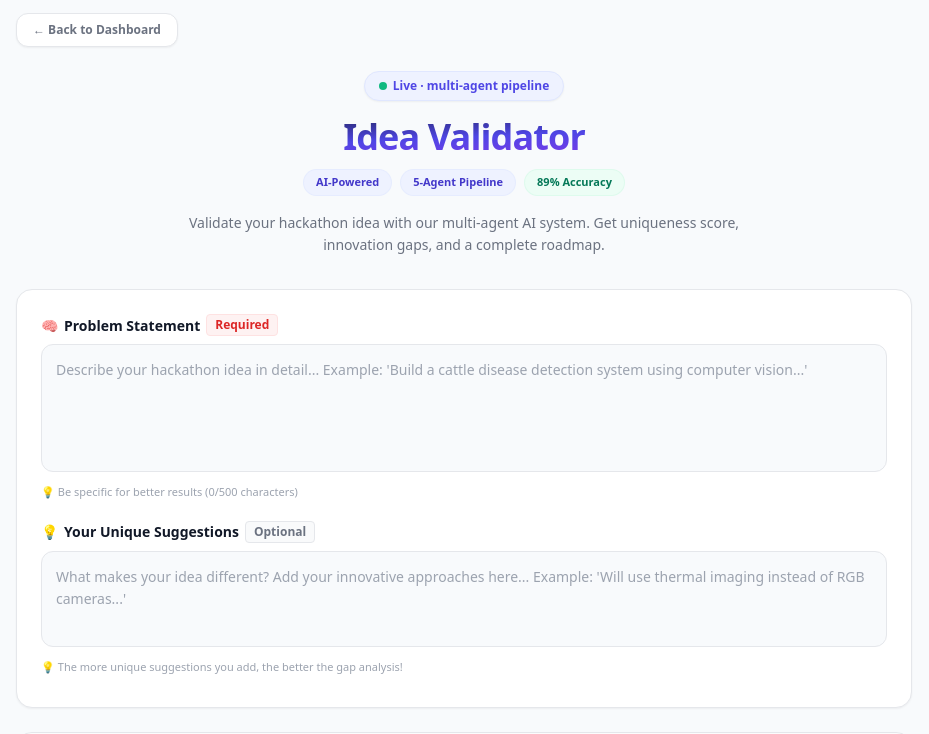
it: IdeaValidator Component Tests › shows agent progress tracker during validation
Type "Test problem statement" into the text box with placeholder "Describe your hackathon idea".
click(464, 408); type("Test problem statement")  # box [41,344,887,472]
(page scrolled)
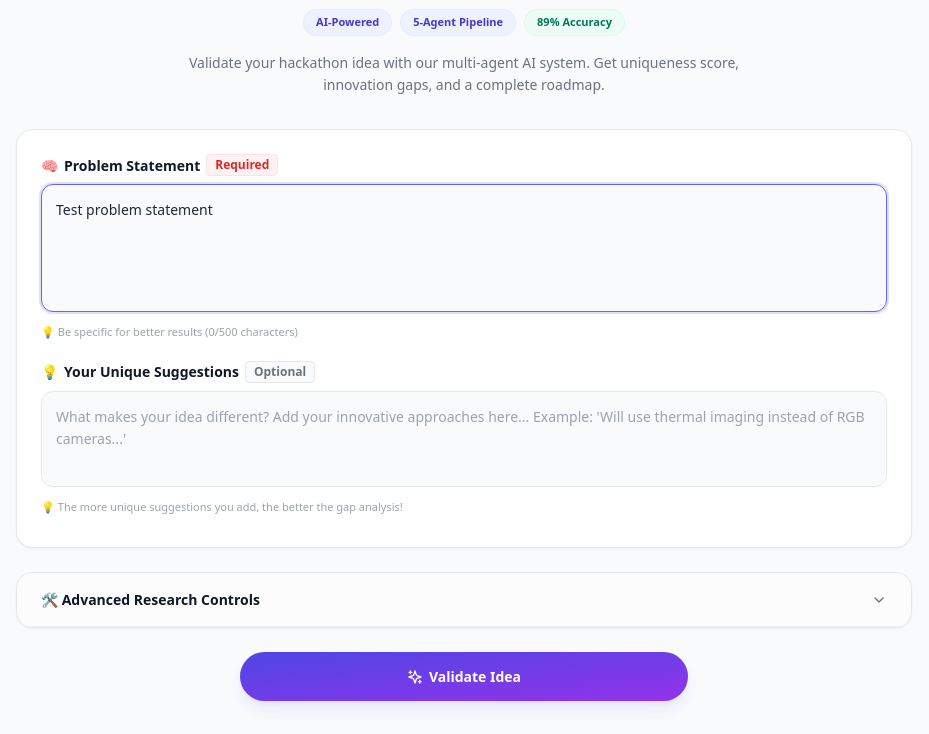
Click the button "Validate Idea".
click(464, 676)  # box [240,652,688,701]
(page scrolled)
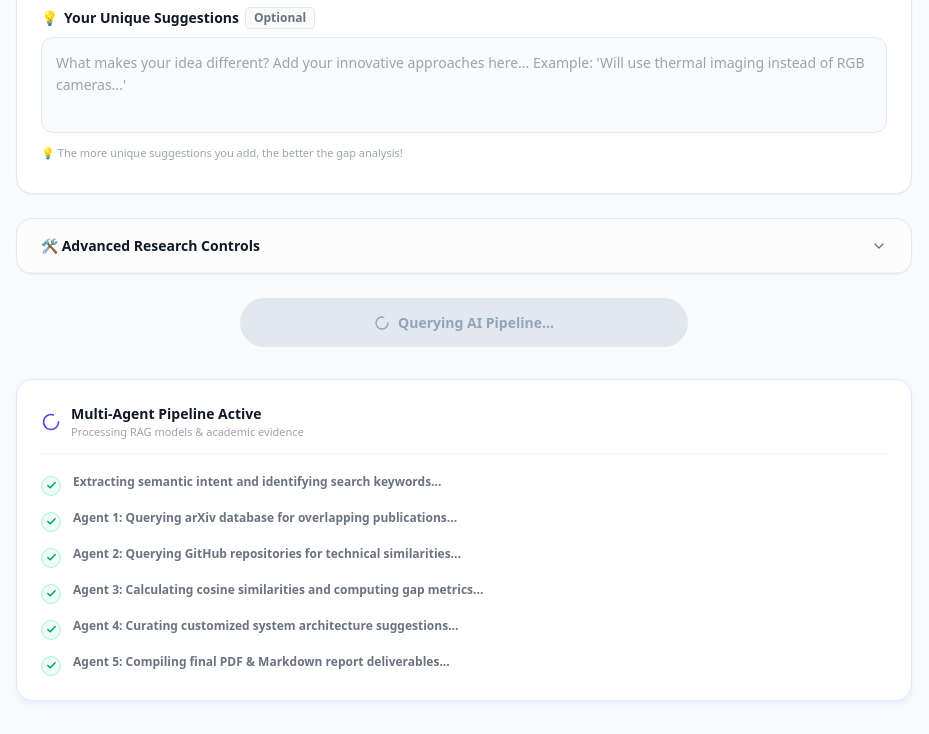
Check: the text "Extracting semantic intent" is shown, box [73,472,441,490]
Check: the text "Querying GitHub" is shown, box [73,544,461,562]
